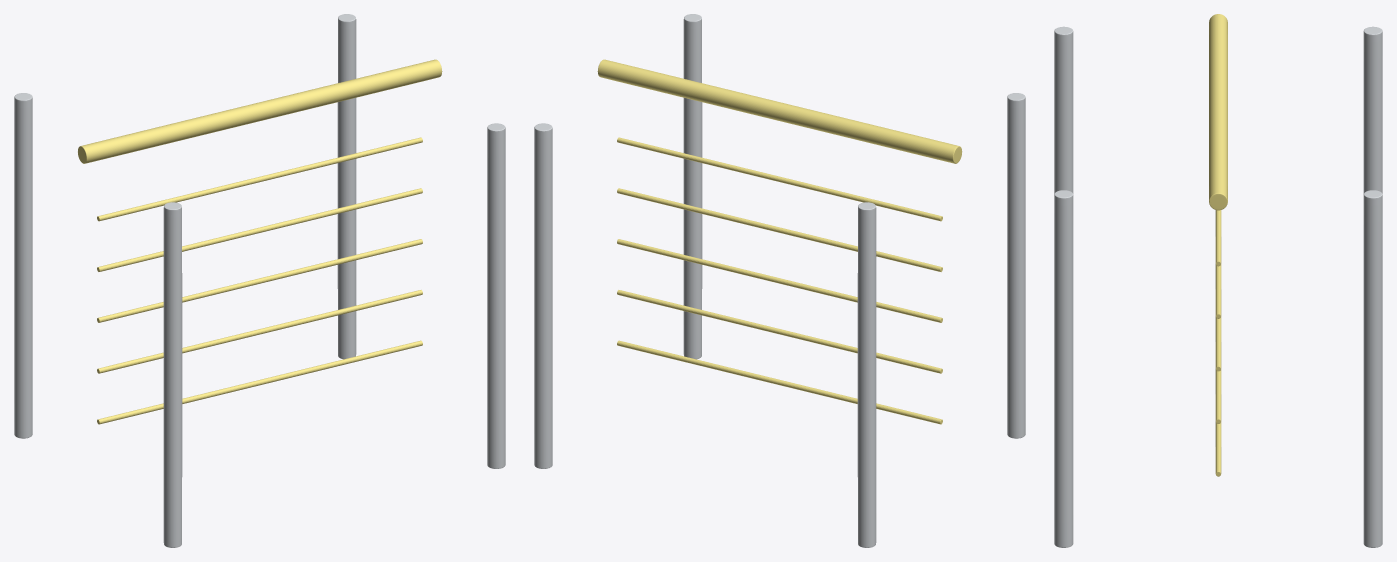
Rendered from Toy_NetFrame_Hi_2127.fbx.
3 renders of one model, left to right at view 1: azimuth 30°, elevation 25°; view 2: azimuth 150°, elevation 25°; view 3: azimuth 270°, elevation 25°, orthographic. The views are drawn at different scales.
Parts seen in each view (by area): view 1: Cylinder.004, Cylinder, Cylinder.001, Cylinder.002, Cylinder.003, Cylinder.009, Cylinder.007, Cylinder.005, Cylinder.006, Cylinder.008; view 2: Cylinder.004, Cylinder.001, Cylinder, Cylinder.003, Cylinder.002, Cylinder.009, Cylinder.007, Cylinder.005, Cylinder.006, Cylinder.008; view 3: Cylinder.002, Cylinder.003, Cylinder.004, Cylinder, Cylinder.001.
Part boxes in pixels (box(x1,y1,x2,y2)): Cylinder.004: box(78, 59, 442, 163); Cylinder: box(163, 202, 182, 547); Cylinder.001: box(14, 93, 32, 438); Cylinder.002: box(487, 123, 505, 468); Cylinder.003: box(337, 14, 356, 359); Cylinder.009: box(97, 137, 422, 221); Cylinder.007: box(97, 239, 422, 322); Cylinder.005: box(97, 340, 422, 424); Cylinder.006: box(97, 290, 422, 373); Cylinder.008: box(97, 188, 422, 271); Cylinder.004: box(597, 59, 962, 163); Cylinder.001: box(857, 202, 876, 547); Cylinder: box(1007, 93, 1025, 438); Cylinder.003: box(534, 123, 552, 468); Cylinder.002: box(683, 14, 702, 359); Cylinder.009: box(617, 137, 942, 221); Cylinder.007: box(617, 239, 942, 322); Cylinder.005: box(617, 340, 942, 424); Cylinder.006: box(617, 290, 942, 373); Cylinder.008: box(617, 188, 942, 271); Cylinder.002: box(1054, 190, 1073, 547); Cylinder.003: box(1363, 190, 1382, 547); Cylinder.004: box(1209, 14, 1227, 210); Cylinder: box(1054, 26, 1073, 193); Cylinder.001: box(1363, 26, 1382, 193).
Bounding box in the file's own units: 2.2 × 2.05 × 1.7.
